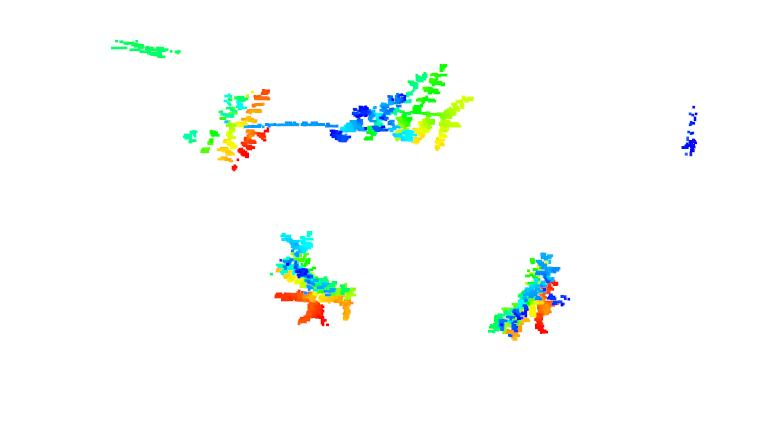chickpea: (346, 64, 473, 149), (180, 85, 276, 173), (270, 237, 357, 329), (487, 249, 570, 340)
